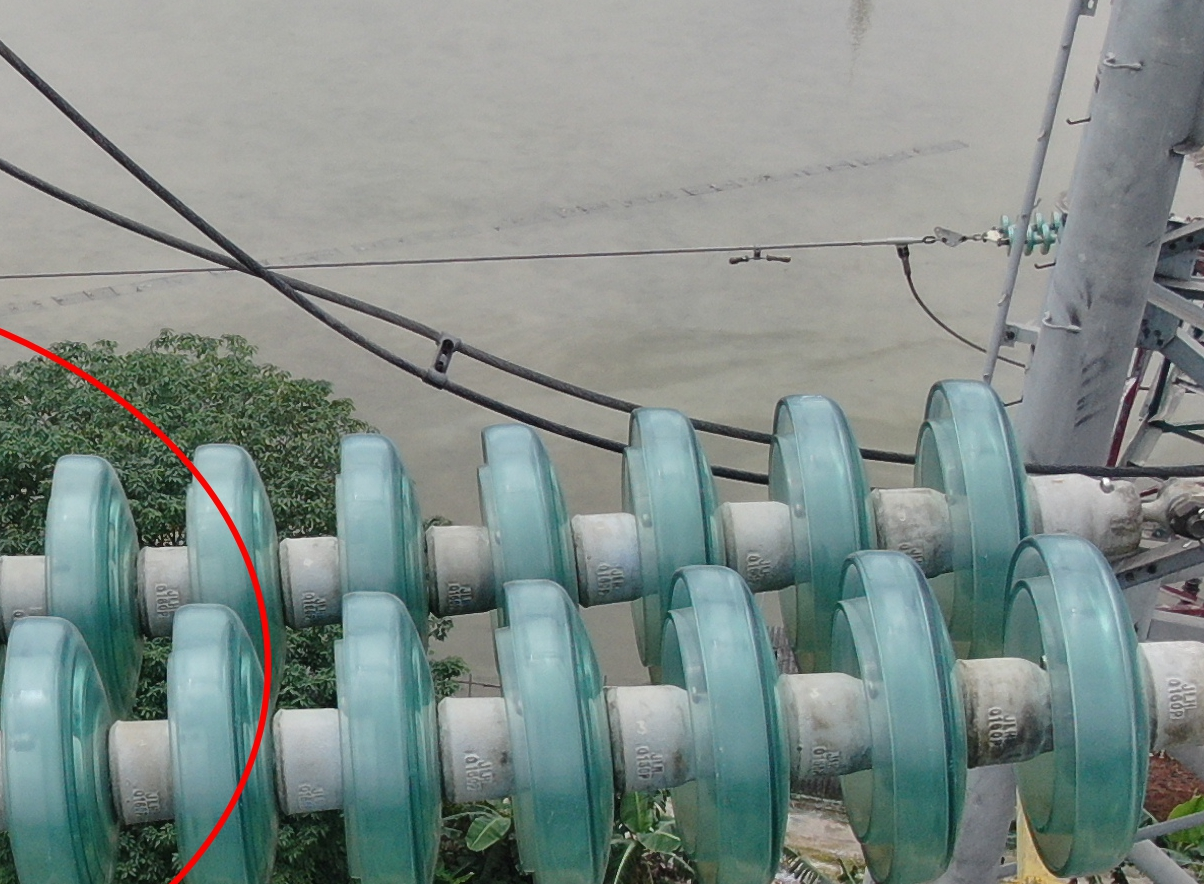damper: (726, 242, 791, 269)
